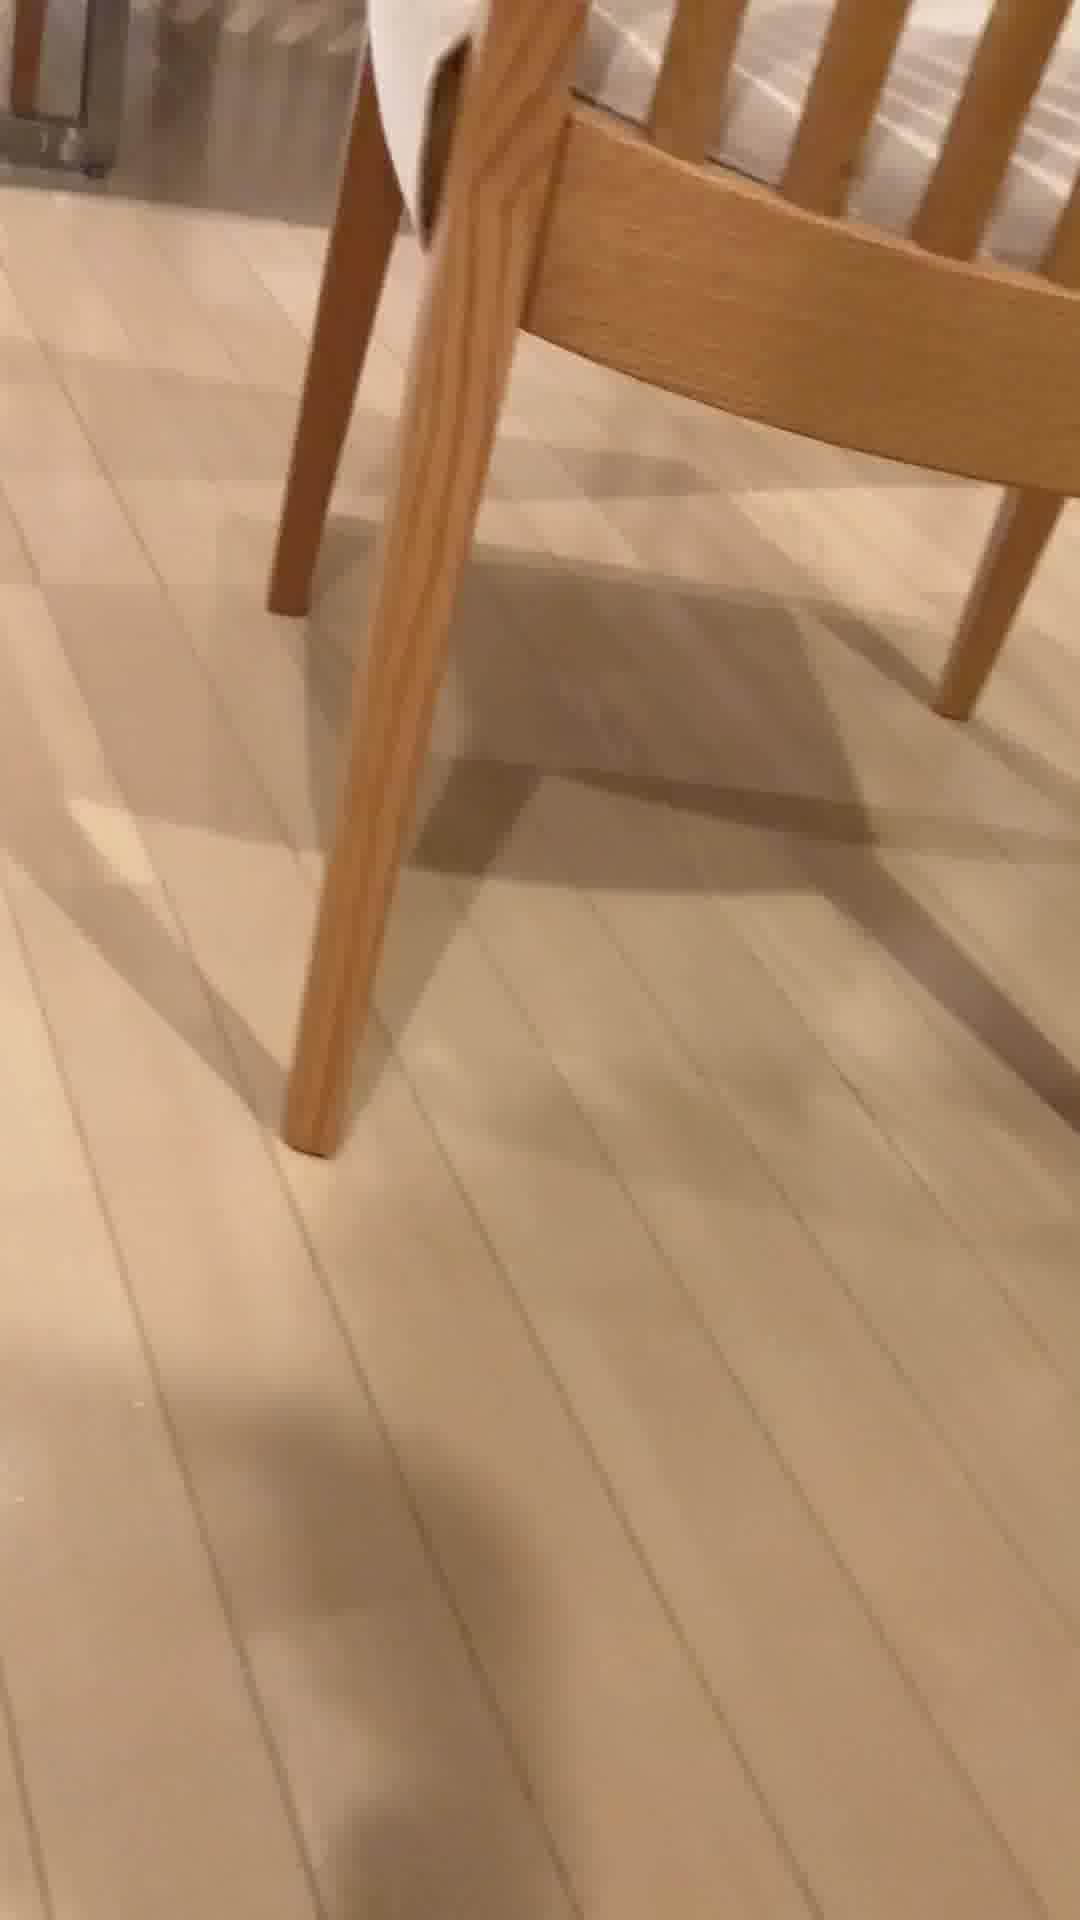takumikan-chair: (256, 0, 1080, 1176)
